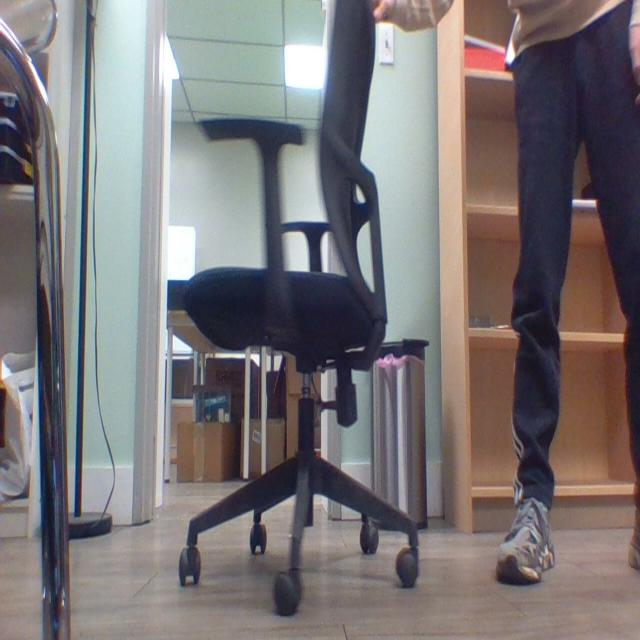black-chair: (178, 0, 421, 609)
